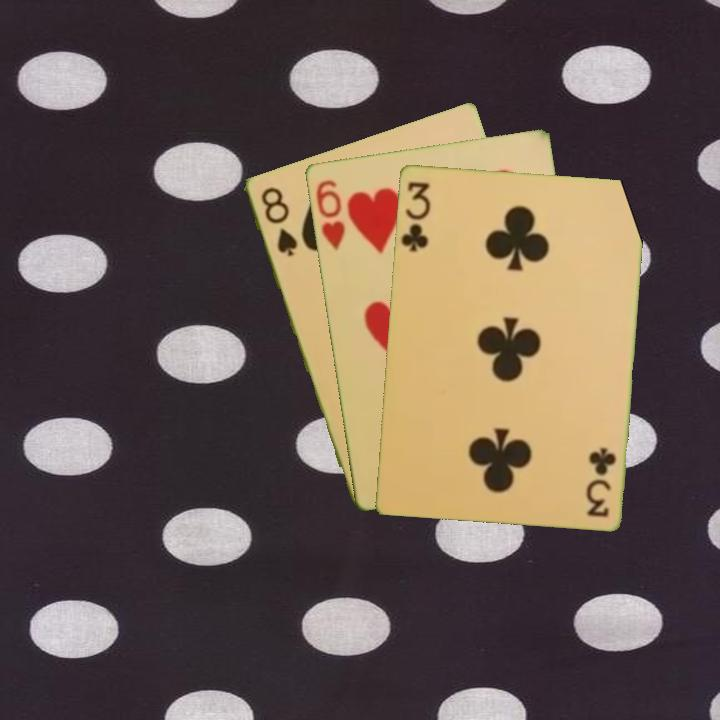3c: (583, 443, 619, 520), (397, 178, 433, 254)
6h: (311, 175, 348, 253)
8s: (257, 183, 300, 259)
